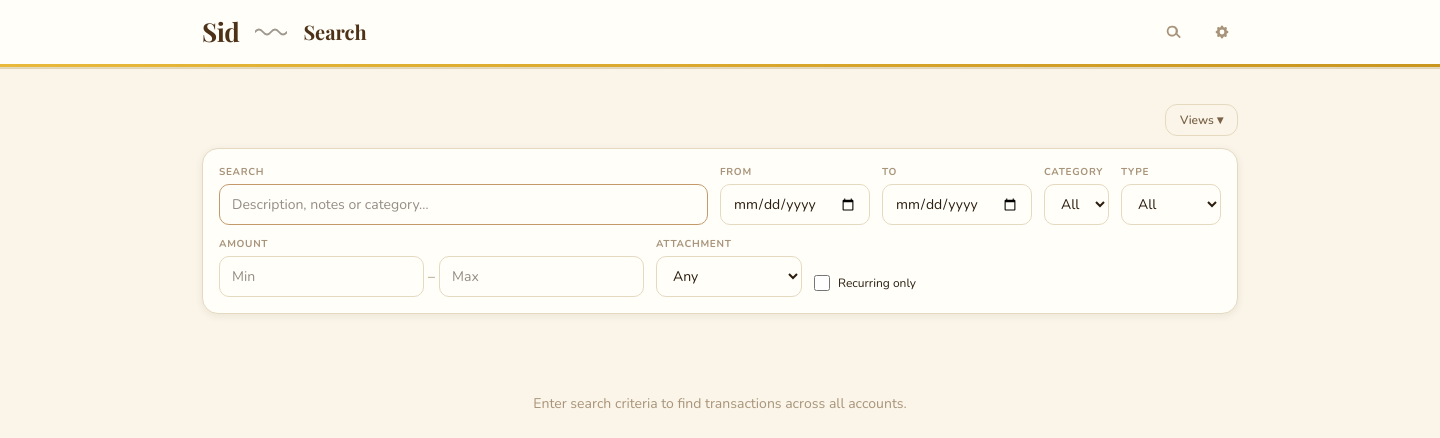
Test: Search page › renders result rows as links with the expand query param
Type "hardware" into the field with placeholder "Description, notes or category…". click: (464, 204)
box: x1=219 y1=184 x2=708 y2=225
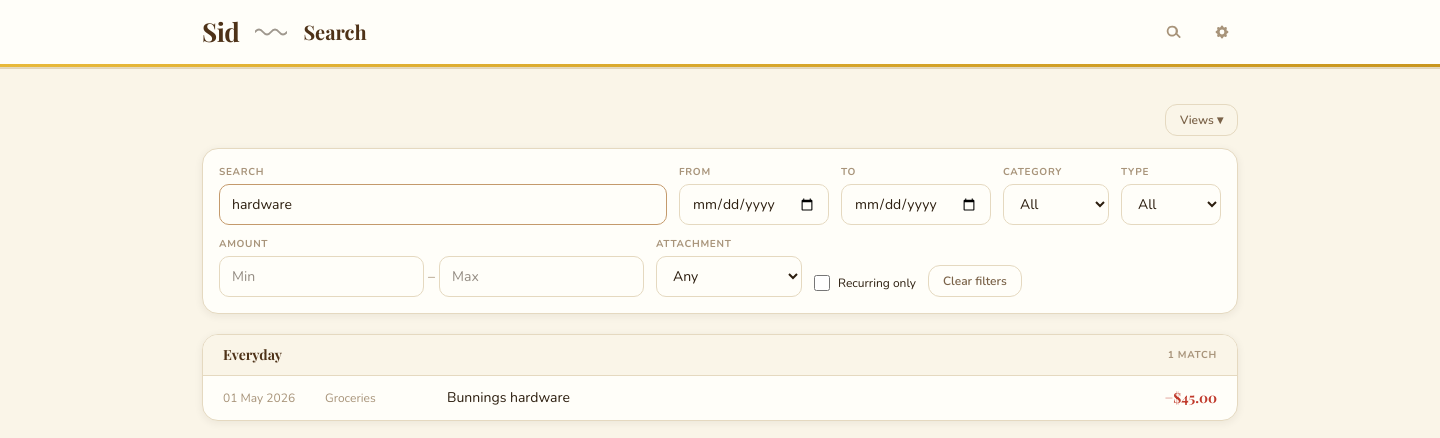
Expected: the link "01 May 2026 Groceries Bunnings hardware −$45.00" is shown, x1=223 y1=388 x2=1217 y2=407
